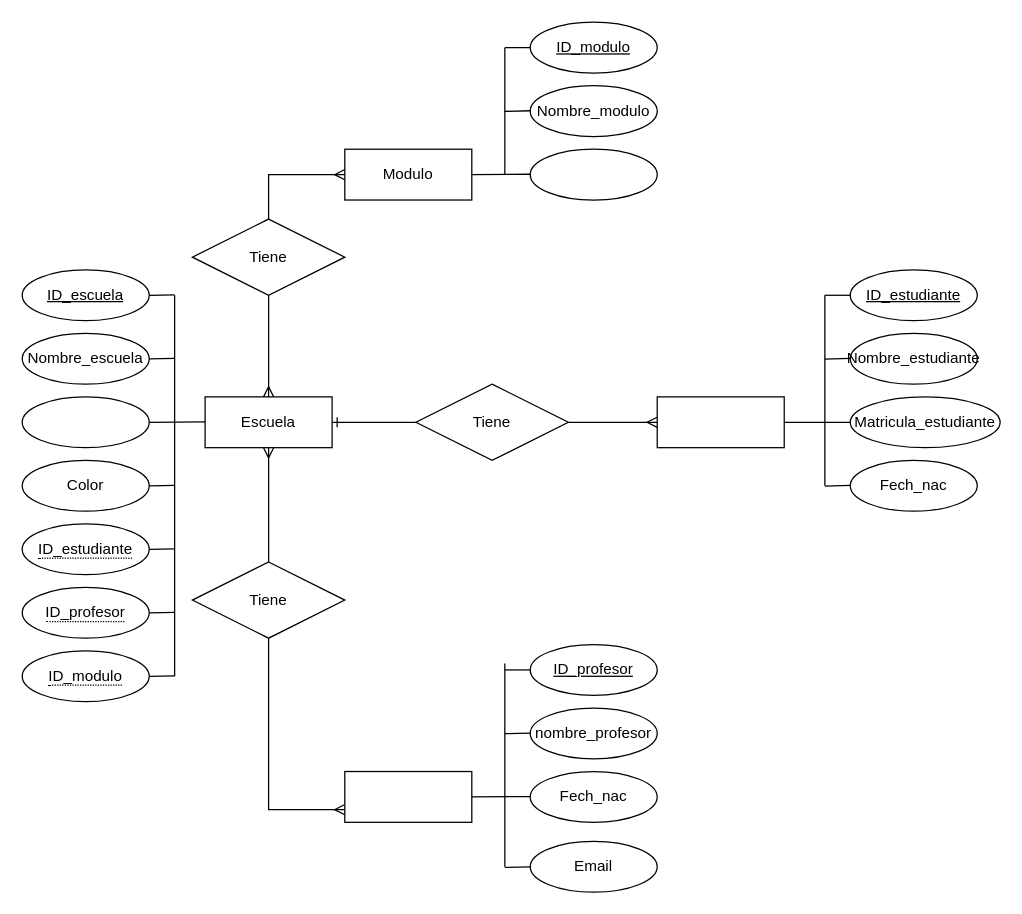
Image size: 1022x914. Some labels were removed from this diagram. Here are the shapes that lost their labels. From the top down, the centre of each, then its label:
(x=593, y=174): Descrip_modulo
(x=85, y=422): Direccion
(x=720, y=422): Estudiante
(x=408, y=796): Profesor/Docente
